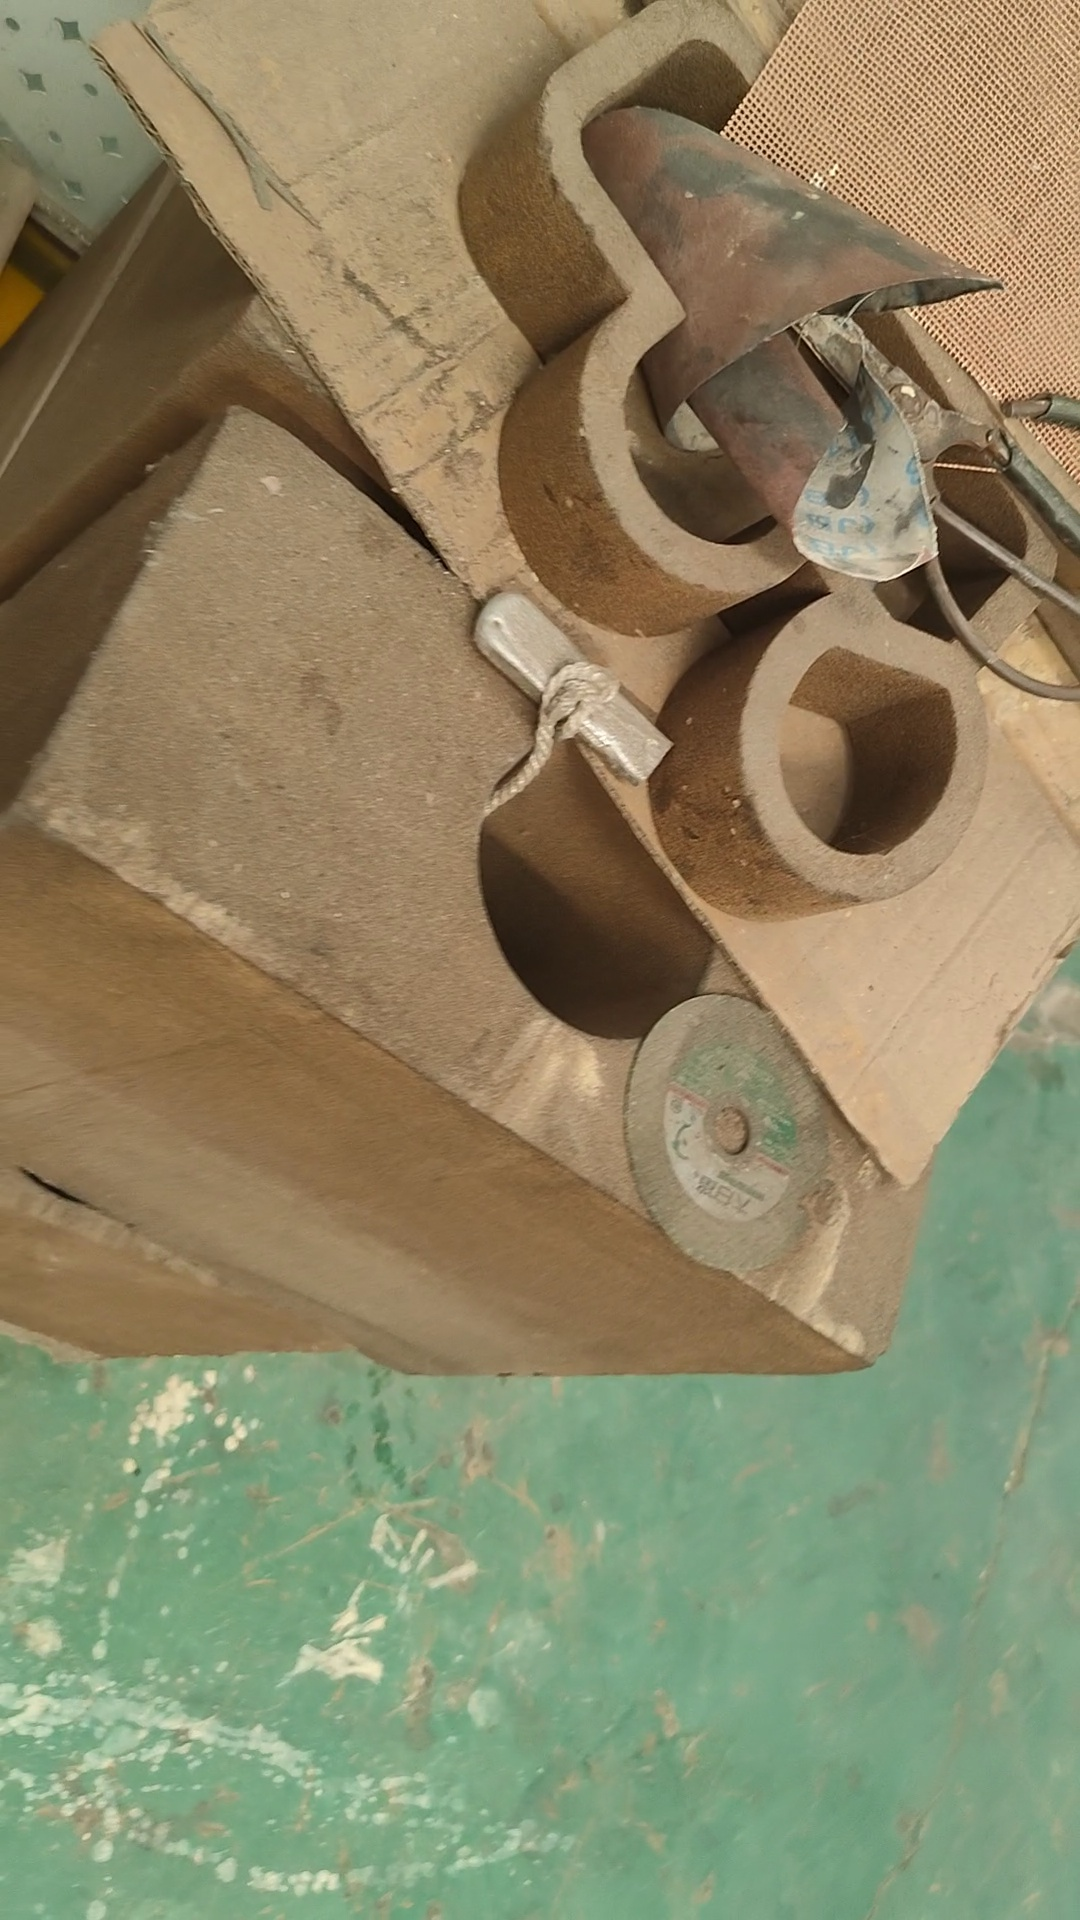pouring hole: (481, 731, 721, 1040)
